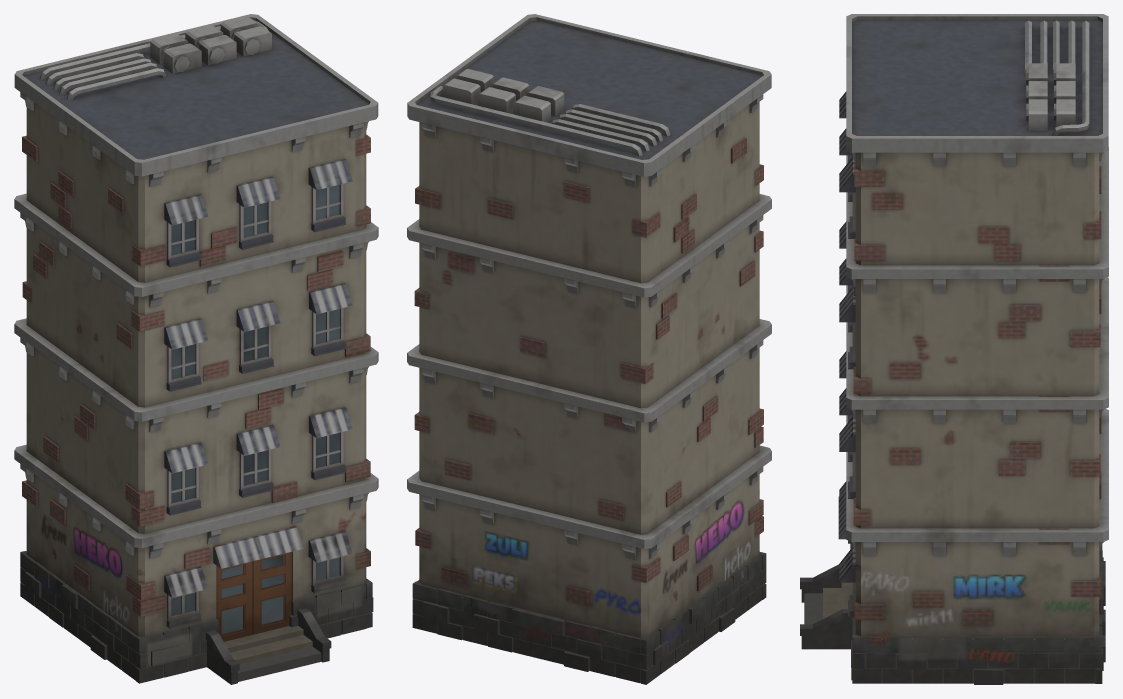
File: building_4Story.glb
3 views of the same model, side by side, from view 1: azimuth 30°, elevation 25°; view 2: azimuth 150°, elevation 25°; view 3: azimuth 270°, elevation 25° (orthographic). The views are drawn at different scales.
Parts seen in each view (by area): view 1: 4Story_low; view 2: 4Story_low; view 3: 4Story_low.
Part boxes in pixels (x1,y1,x2,y2): 4Story_low: (14, 14, 378, 684); 4Story_low: (407, 14, 771, 684); 4Story_low: (800, 14, 1108, 684).
Size of the model in its own units: 2.42 by 5.09 by 2.53.
Materials: 2 (2 with a texture image).
